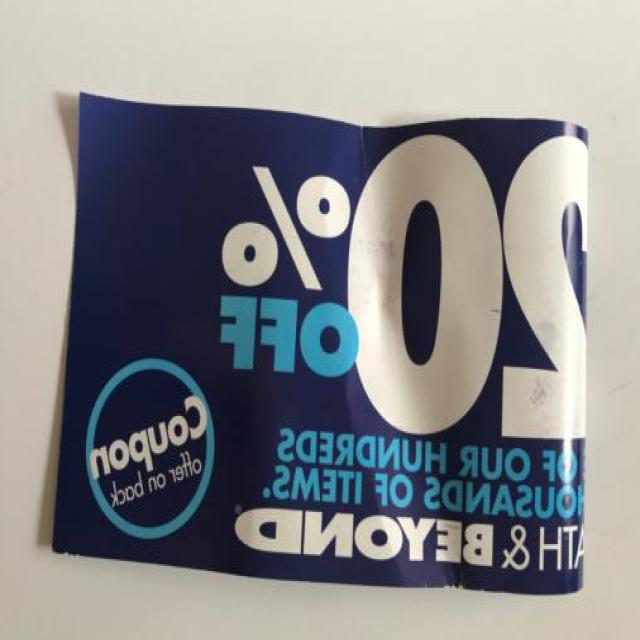kertas: (50, 90, 588, 598)
